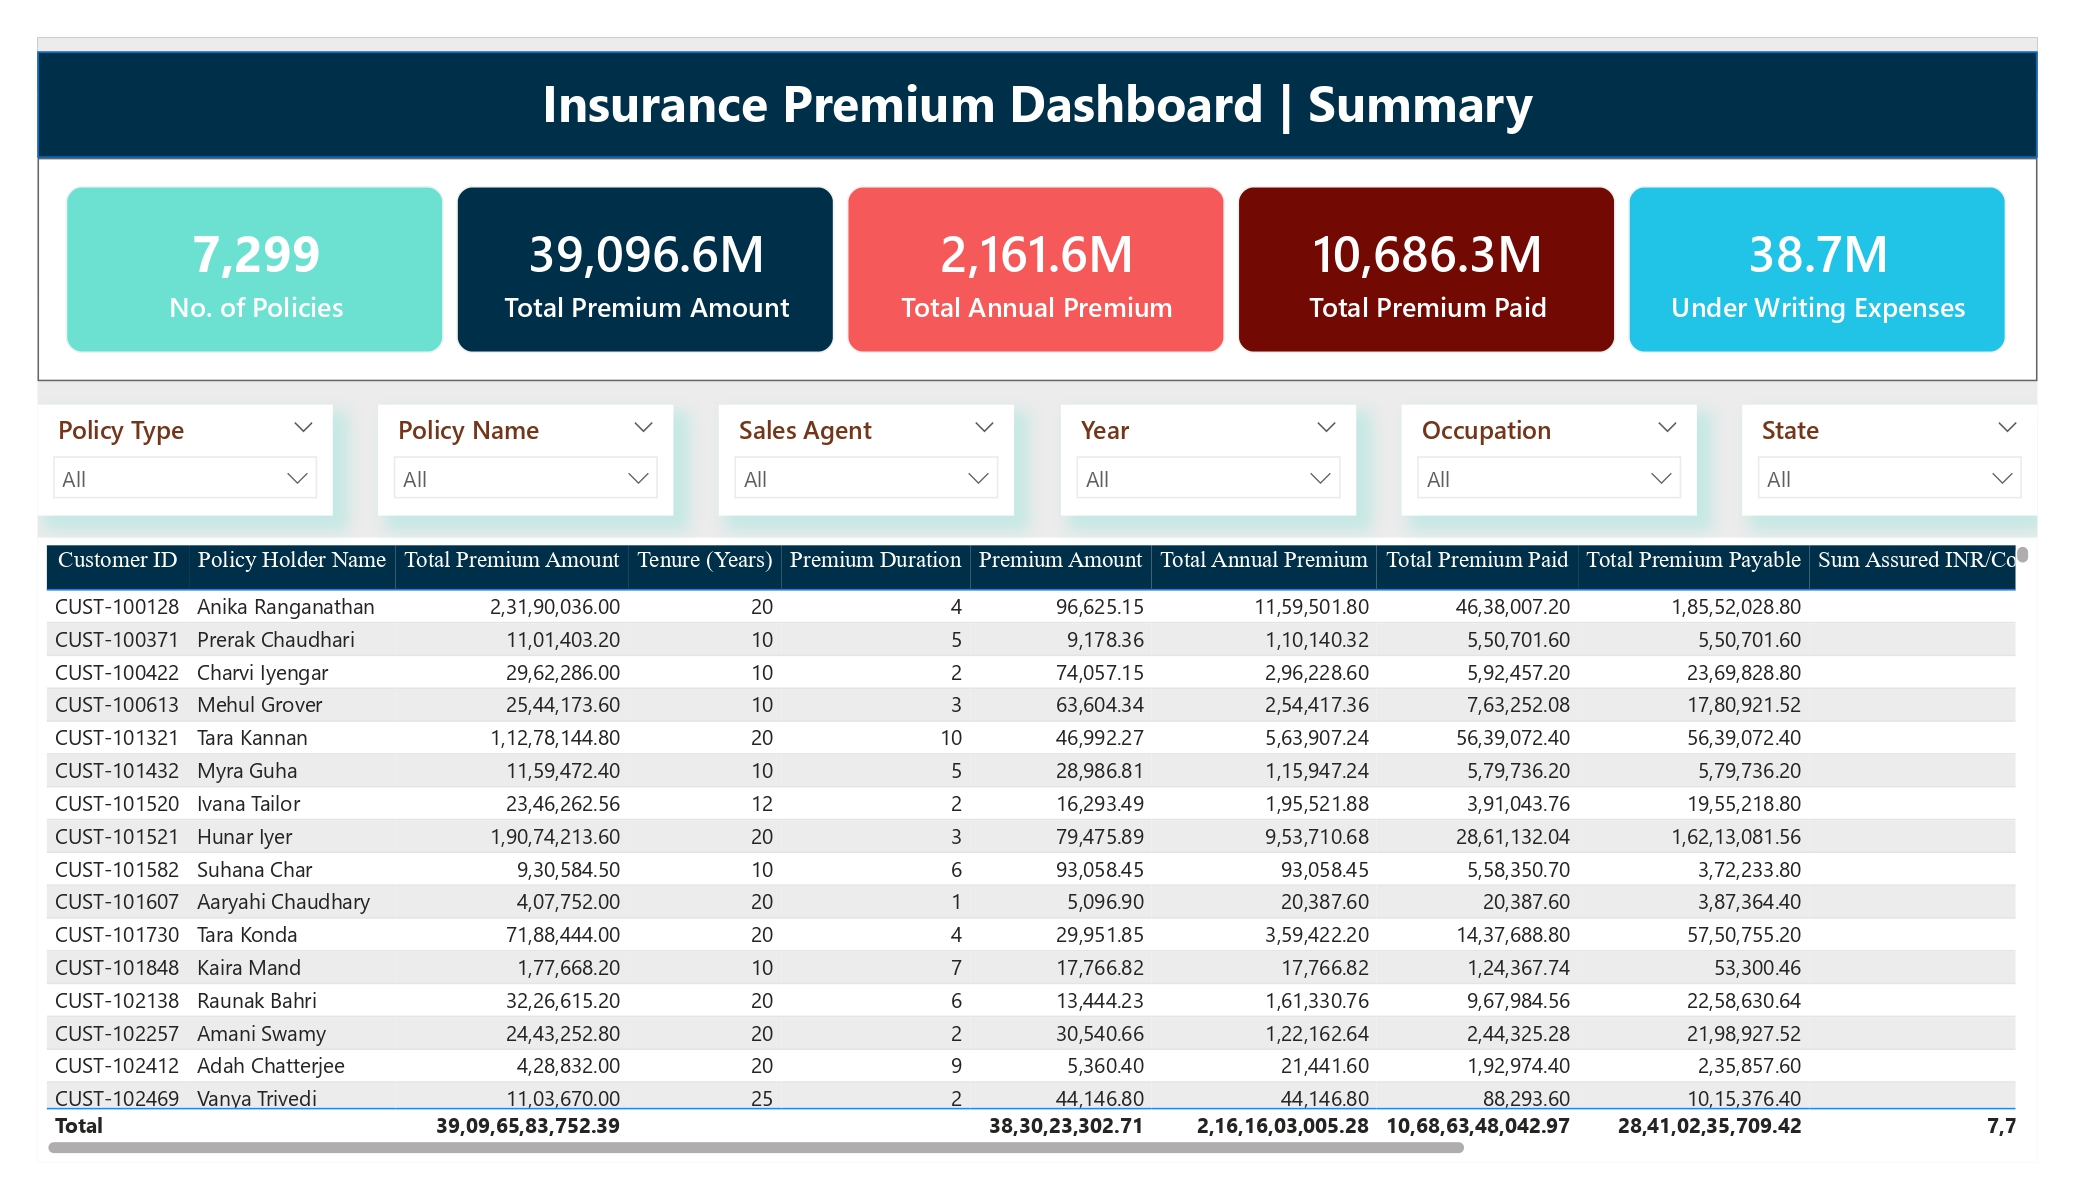

The page's visual inventory and layout, read from the dashboard file:
{"tool":"powerbi","page":{"name":"Summary","canvas":[1280,720],"ordinal":0},"visuals":[{"type":"cardVisual","fields":{"Data":["CountNonNull(DM Customer_Detail_Table.Customer ID)","Sum(FCT Insurance_Policy_Table.Total Premium Amount)","Sum(FCT Insurance_Policy_Table.Total Annual Premium)","Sum(FCT Insurance_Policy_Table.Total Premium Paid)","FCT Insurance_Policy_Table.Under Writing Expenses"]},"box":[0,77.1,1280,143.1],"z":0},{"type":"shape","box":[0,8.7,1280,68.4],"z":1000,"group":"g1"},{"type":"tableEx","fields":{"Values":["DM Customer_Detail_Table.Customer ID","DM Customer_Detail_Table.Policy Holder Name","Sum(FCT Insurance_Policy_Table.Total Premium Amount)","FCT Insurance_Policy_Table.Tenure (Years)","FCT Insurance_Policy_Table.Premium Payment Duration","Sum(FCT Insurance_Policy_Table.Premium Amount)","Sum(FCT Insurance_Policy_Table.Total Annual Premium)","Sum(FCT Insurance_Policy_Table.Total Premium Paid)","Sum(FCT Insurance_Policy_Table.Total Premium Payable)","Sum(FCT Insurance_Policy_Table.Sum Assured INR/Coverage Amount)","Sum(FCT Insurance_Policy_Table.Maturity Amount)","Sum(FCT Insurance_Policy_Table.Profit / Gain)"]},"box":[0,319.7,1280,400.6],"z":1000},{"type":"textbox","box":[311,13.7,658.1,58.5],"z":2000,"group":"g1"},{"type":"slicer","fields":{"Values":["DM Policy_Protection_Plan.Policy Name"]},"box":[218.2,235.1,189.1,70.9],"z":2000},{"type":"slicer","fields":{"Values":["DM Policy_Type.Policy Type"]},"box":[0,235.1,189.1,70.9],"z":3000},{"type":"slicer","fields":{"Values":["DM Insurance_Agent_Table.Sales Agent"]},"box":[436.4,235.1,189.1,70.9],"z":4000},{"type":"slicer","fields":{"Values":["FCT Insurance_Policy_Table.Date of Purchase.Variation.Date Hierarchy.Year"]},"box":[654.6,235.1,189.1,70.9],"z":5000},{"type":"slicer","fields":{"Values":["DM Customer_Detail_Table.State"]},"box":[1090.9,235.1,189.1,70.9],"z":6000},{"type":"slicer","fields":{"Values":["DM Customer_Detail_Table.Occupation"]},"box":[872.8,235.1,189.1,70.9],"z":7000},{"type":"group","id":"g1","title":"Group 1","box":[0,8.7,1280,68.4],"z":8000}]}

Visuals, with their boxes on the page's 1280x720 design canvas (x1, y1, x2, y2). These are canvas units, not pixel positions in the 2075x1200 screenshot, which may show the page scaled, cropped or inside an application window:
cardVisual - CountNonNull(DM Customer_Detail_Table.Customer ID) x Sum(FCT Insurance_Policy_Table.Total Premium Amount): BBox(0, 77, 1280, 220)
shape: BBox(0, 9, 1280, 77)
tableEx - DM Customer_Detail_Table.Customer ID x DM Customer_Detail_Table.Policy Holder Name: BBox(0, 320, 1280, 720)
textbox: BBox(311, 14, 969, 72)
slicer - DM Policy_Protection_Plan.Policy Name: BBox(218, 235, 407, 306)
slicer - DM Policy_Type.Policy Type: BBox(0, 235, 189, 306)
slicer - DM Insurance_Agent_Table.Sales Agent: BBox(436, 235, 626, 306)
slicer - FCT Insurance_Policy_Table.Date of Purchase.Variation.Date Hierarchy.Year: BBox(655, 235, 844, 306)
slicer - DM Customer_Detail_Table.State: BBox(1091, 235, 1280, 306)
slicer - DM Customer_Detail_Table.Occupation: BBox(873, 235, 1062, 306)
"Group 1" group: BBox(0, 9, 1280, 77)
